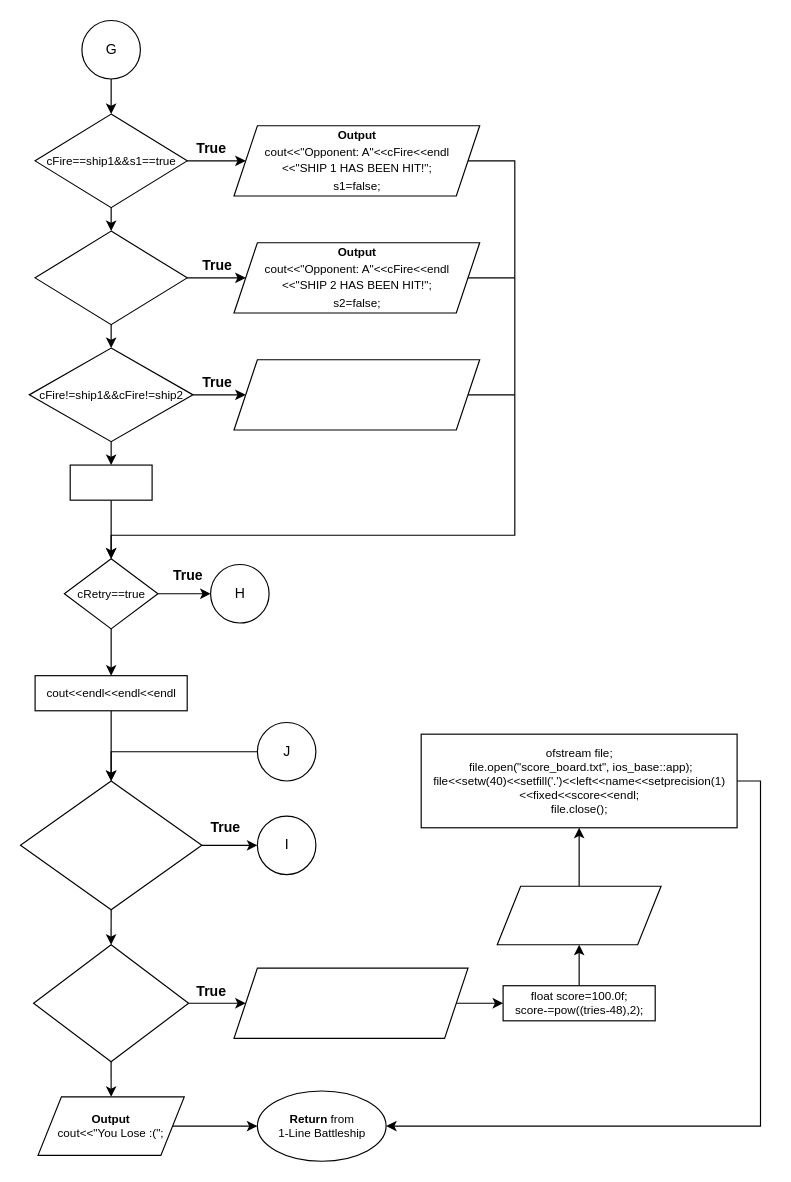
This 791x1182 diagram has some shape labels left out. Here are the shapes that lost their labels. From the top down, the centre of each, then its label:
point (110, 277): cFire==ship2&&s2==true
point (356, 394): Output cout<<"Opponent: A"<<cFire<<endl <<"OPPONENT MISSED!";
point (110, 482): cRetry=true;
point (110, 845): (cS1==true||cS2==true)&&(s1==true||s2==true
point (578, 915): Output cout<<"Score: "<<setprecision(1)<<fixed<<score;
point (110, 1003): cS1==false&&cS2==false
point (350, 1002): Output cout<<":D You Win!"<<endl; cout<<"Guesses: "<<tries-48<<endl;
